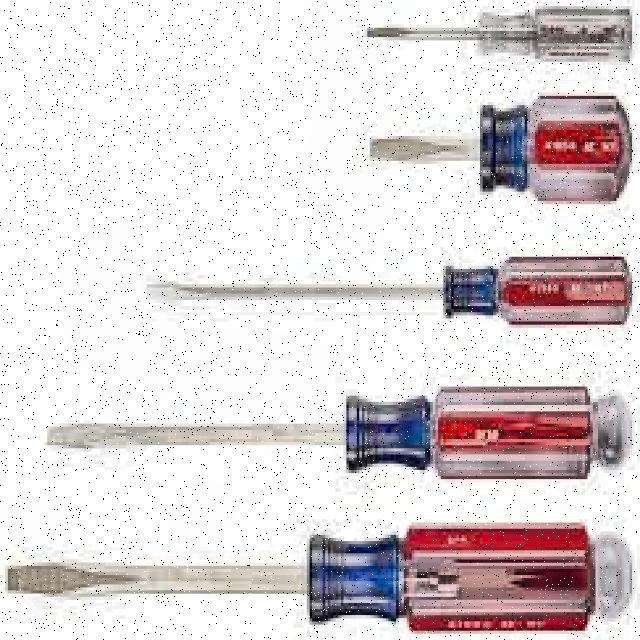screwdriver: (3, 522, 630, 635), (48, 383, 630, 478), (148, 257, 632, 329), (370, 96, 634, 202), (368, 10, 632, 62)
